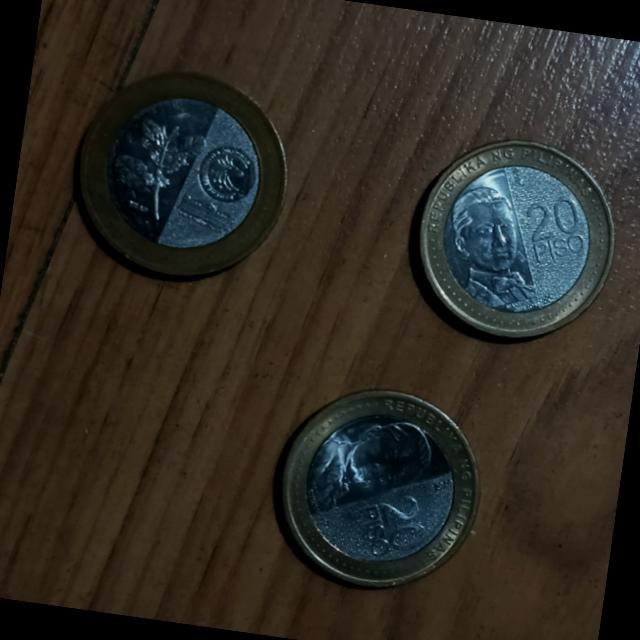20_peso: (79, 74, 286, 276), (282, 390, 479, 587), (420, 141, 613, 337)
